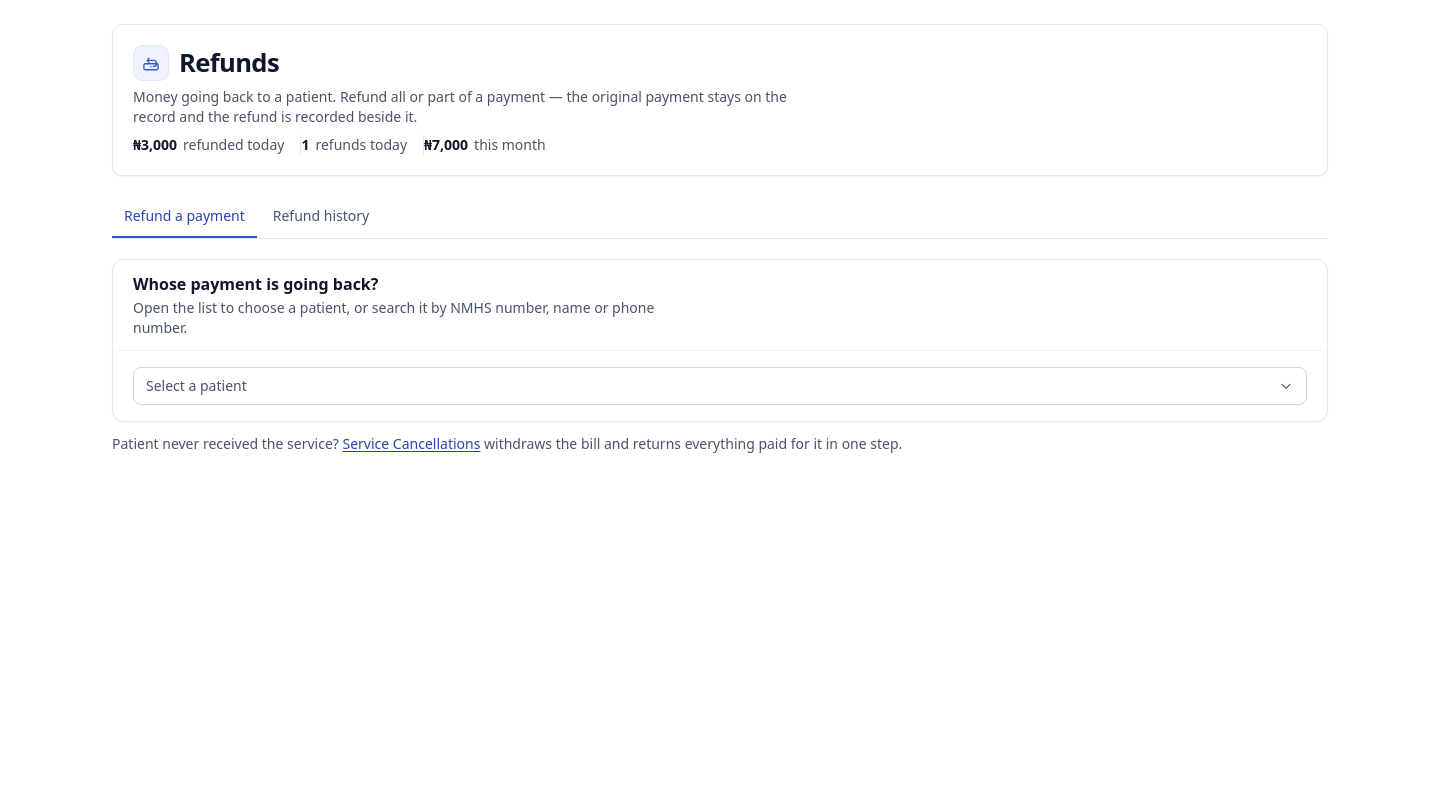
Test case: refund history › lists every refund with its status, reason, method, reference and payment
Step 1. Click the button "Refund history" → (321, 217), box [261, 196, 381, 238]
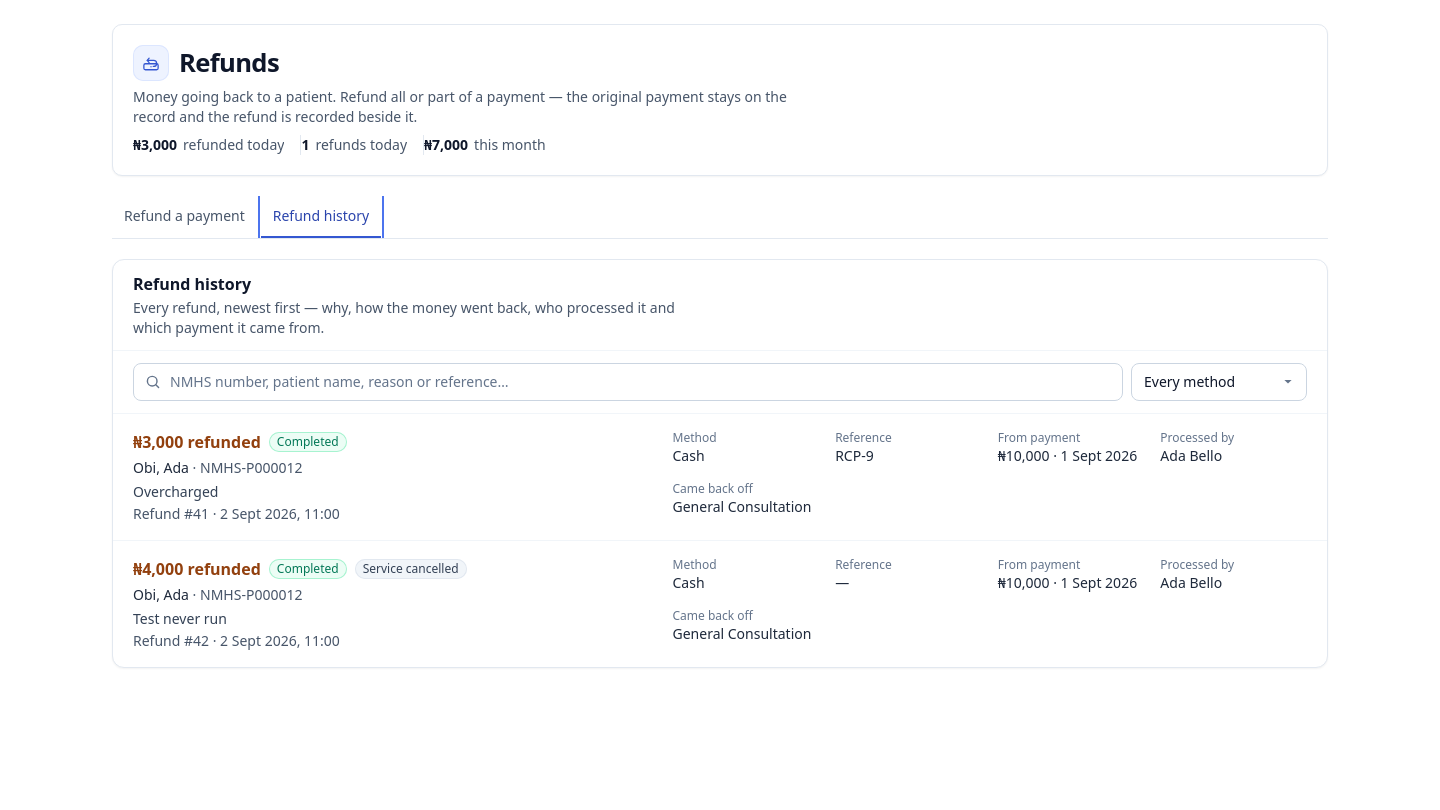
Expected: the text "₦3,000 refunded" is shown, [133, 430, 261, 454]
Expected: the text "Completed" in the row of "RCP-9" is shown, [277, 433, 339, 450]
Expected: the text "Obi, Ada · NMHS-P000012" in the row of "RCP-9" is shown, [133, 458, 189, 477]
